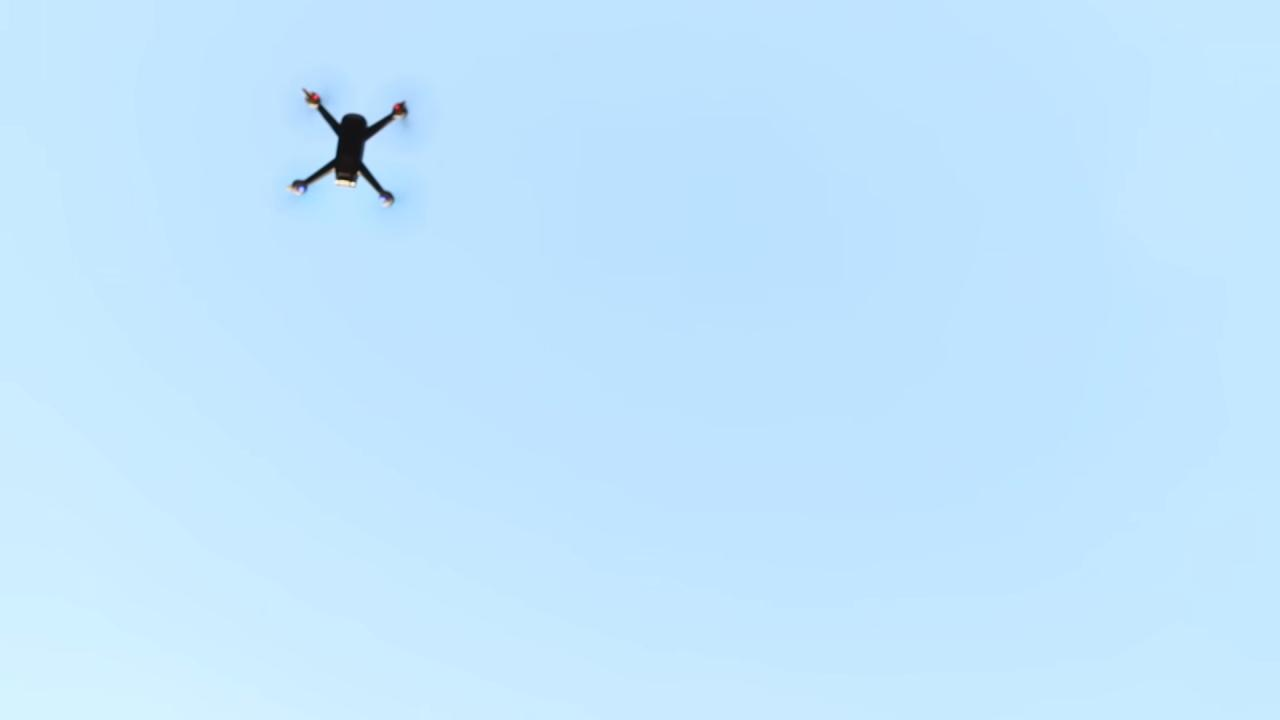Drone: (267, 69, 432, 224)
